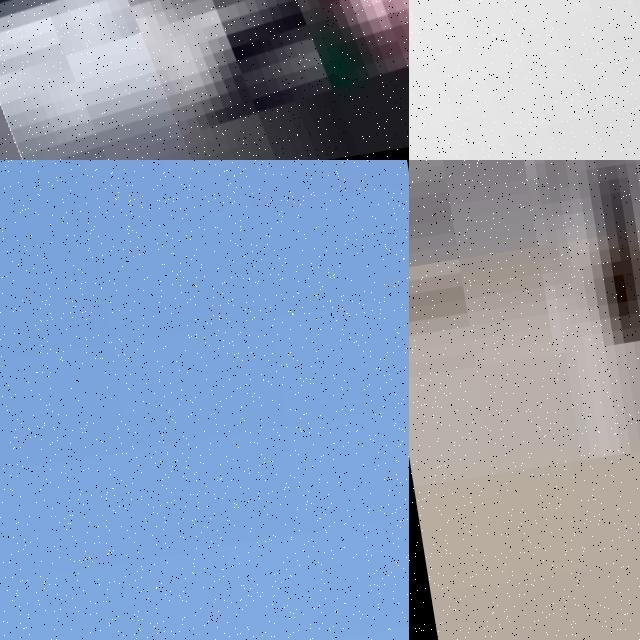drone: (0, 0, 409, 160), (409, 0, 640, 160)
